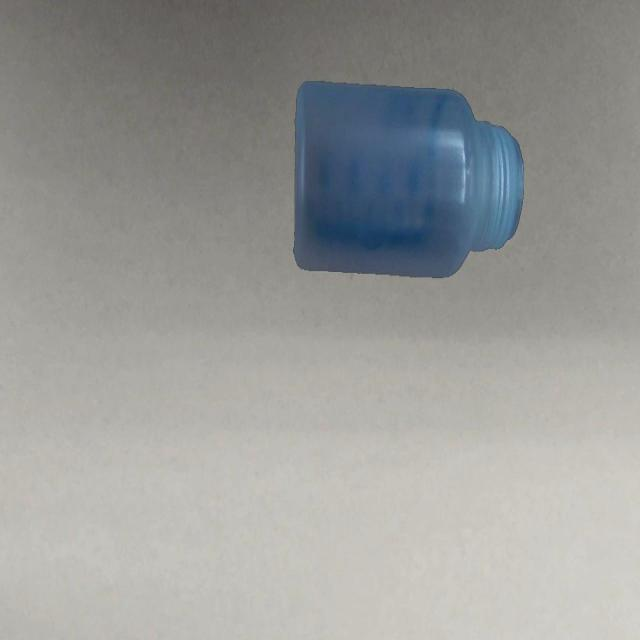bottle: (292, 76, 528, 284)
